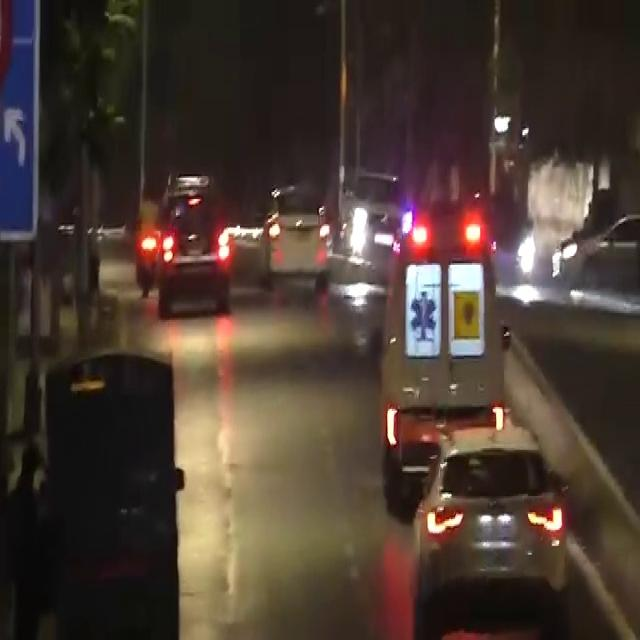ambulance: (388, 206, 491, 448)
